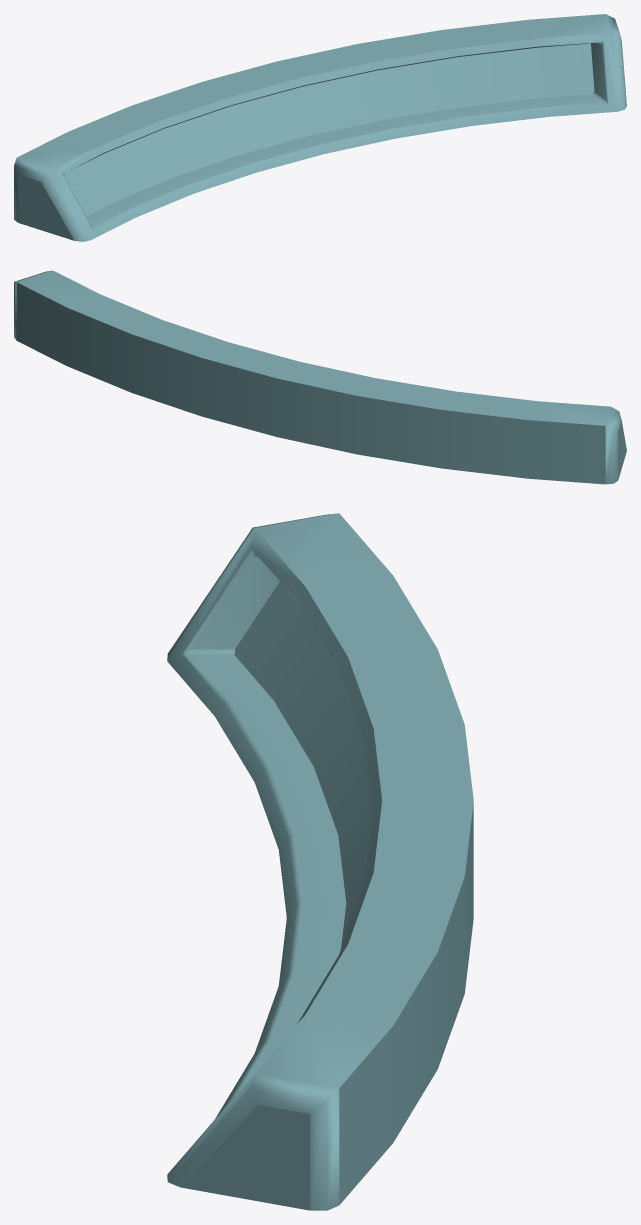
Rendered from panel_galaxy_screen_scoreboard.fbx.
3 views of the same model, one above another, from view 1: azimuth 30°, elevation 25°; view 2: azimuth 150°, elevation 25°; view 3: azimuth 270°, elevation 25° (orthographic). The views are drawn at different scales.
Parts seen in each view (by area): view 1: panel_galaxy_screen_scoreboard; view 2: panel_galaxy_screen_scoreboard; view 3: panel_galaxy_screen_scoreboard.
Part boxes in pixels (bbox=[...]): panel_galaxy_screen_scoreboard: bbox=[14, 14, 626, 241]; panel_galaxy_screen_scoreboard: bbox=[14, 270, 626, 484]; panel_galaxy_screen_scoreboard: bbox=[167, 513, 473, 1210].
Bounding box in the file's own units: 310 × 28.87 × 68.43.
